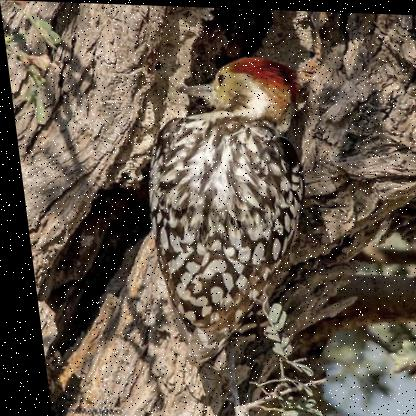Burung: (131, 50, 326, 366)
